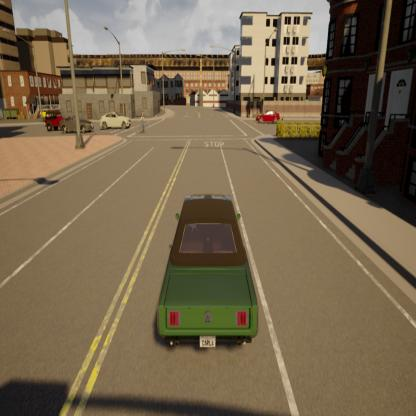Cars: (159, 187, 259, 358), (59, 112, 95, 136), (100, 108, 132, 130), (256, 105, 281, 125), (44, 112, 66, 130), (137, 107, 148, 137)
